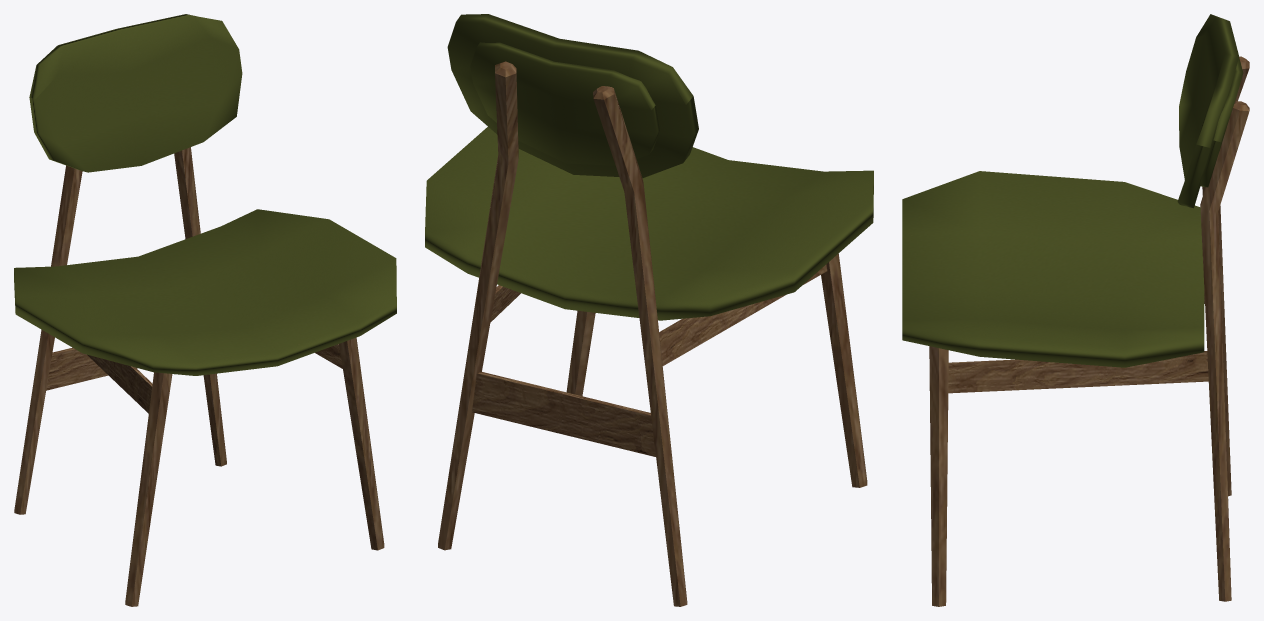
The model's file is LC_3055_chair_h_LOD1.fbx.
3 views of the same model, side by side, from view 1: azimuth 30°, elevation 25°; view 2: azimuth 150°, elevation 25°; view 3: azimuth 270°, elevation 25° (orthographic). The views are drawn at different scales.
Parts seen in each view (by area): view 1: LC_3055_ch_LOD1; view 2: LC_3055_ch_LOD1; view 3: LC_3055_ch_LOD1.
Boxes of the visible parts, x1,y1,x2,y2 form: LC_3055_ch_LOD1: [14, 14, 396, 606]; LC_3055_ch_LOD1: [425, 14, 873, 606]; LC_3055_ch_LOD1: [902, 14, 1249, 606].
Bounding box in the file's own units: 51.27 × 71.81 × 45.4.
1 material, 1 textured.
